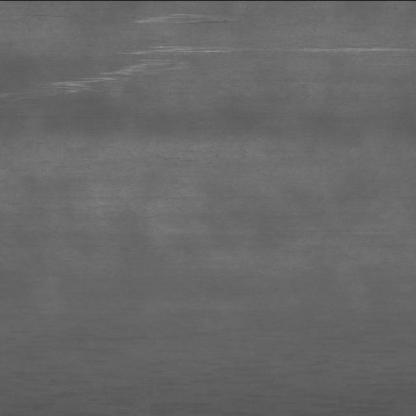silk_spot: (35, 2, 370, 108)
